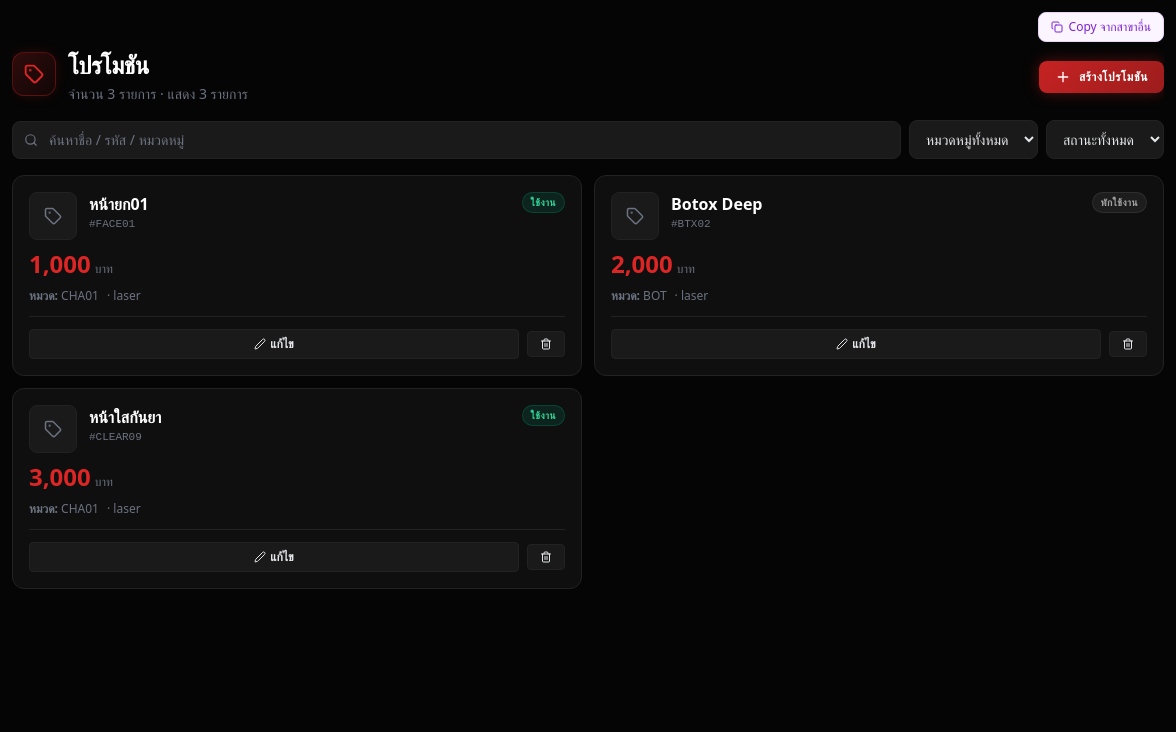
Test: PromotionTab — search + filter › F1 search filters by promotion_name (substring)
Type "หน้ายก" into the field with placeholder "ค้นหาชื่อ / รหัส / หมวดหมู่" at [456, 140], box 12,120 -> 901,158
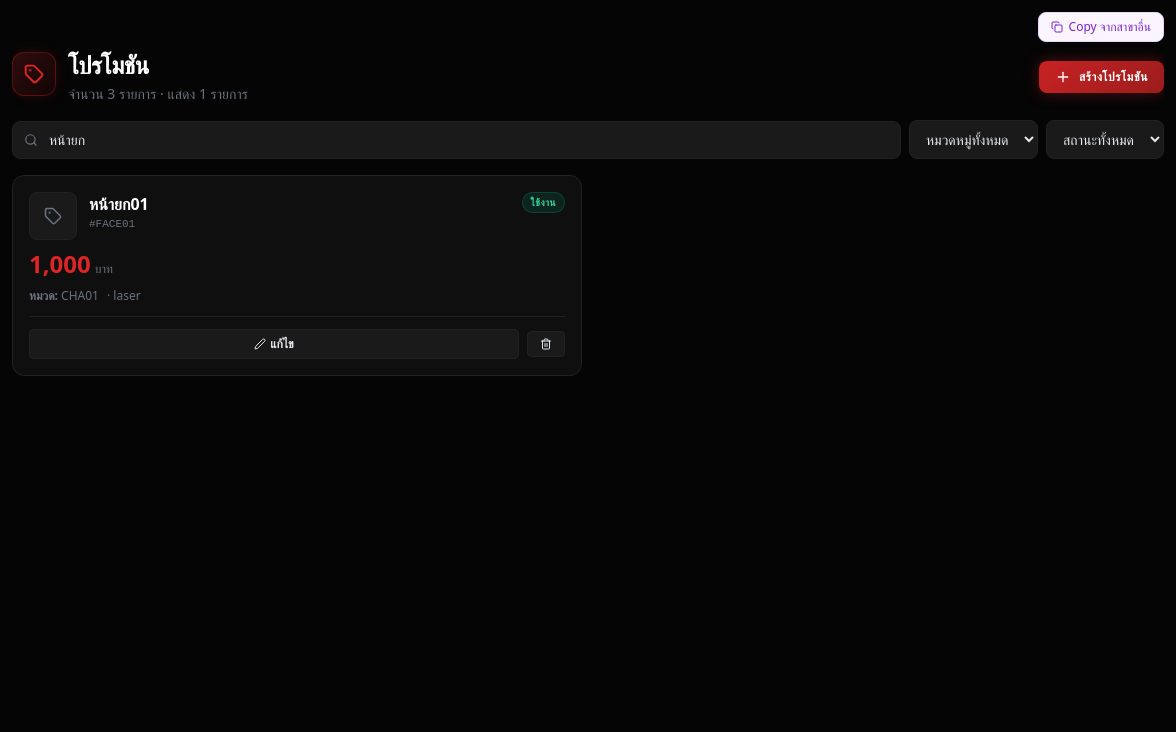
expect the heading "หน้ายก01" is shown: met, box 89,193 -> 149,215
expect the heading "Botox Deep" is gone: met
